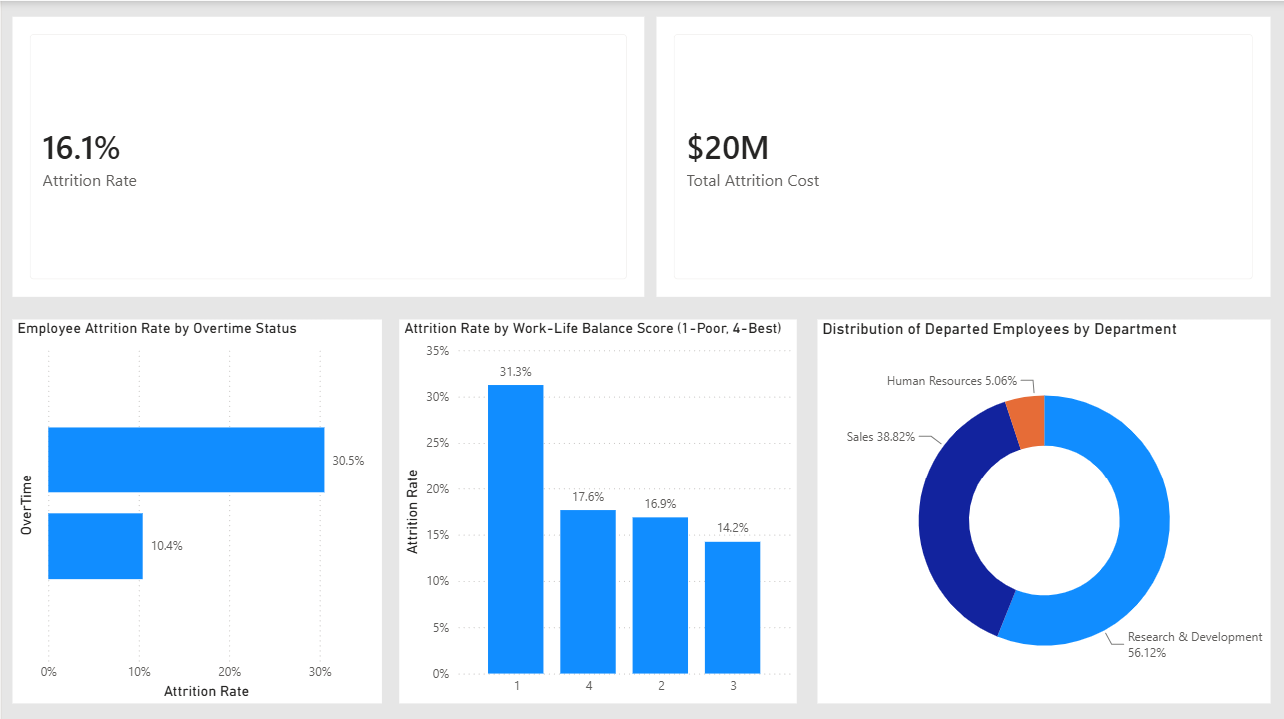

Layout of this report page (visuals, bound fields, positions):
{"tool":"powerbi","page":{"name":"Page 1","canvas":[1280,720],"ordinal":0},"visuals":[{"type":"cardVisual","fields":{"Data":["ibm_hr_cleaned_data.Attrition Rate"]},"box":[10.5,15.7,630.3,279.3],"z":0},{"type":"cardVisual","fields":{"Data":["ibm_hr_cleaned_data.Total Attrition Cost"]},"box":[653,15.7,612.8,279.3],"z":1000},{"type":"barChart","title":"Employee Attrition Rate by Overtime Status","fields":{"Category":["ibm_hr_cleaned_data.OverTime"],"Y":["ibm_hr_cleaned_data.Attrition Rate"]},"box":[10.5,317.8,368.4,384.1],"z":2000},{"type":"clusteredColumnChart","title":"Attrition Rate by Work-Life Balance Score (1-Poor, 4-Best)","fields":{"Category":["ibm_hr_cleaned_data.WorkLifeBalance"],"Y":["ibm_hr_cleaned_data.Attrition Rate"]},"box":[396.3,317.8,396.3,384.1],"z":3000},{"type":"donutChart","title":"Distribution of Departed Employees by Department","fields":{"Category":["ibm_hr_cleaned_data.Department"],"Y":["Sum(ibm_hr_cleaned_data.attrition_num)"]},"box":[813.6,317.8,452.2,384.1],"z":4000}]}

Visuals, with their boxes in screenshot pixels (x1, y1, x2, y2), scaled from the page's 1280x720 canvas onto the 1284x719 screenshot:
cardVisual - ibm_hr_cleaned_data.Attrition Rate: [11, 16, 643, 295]
cardVisual - ibm_hr_cleaned_data.Total Attrition Cost: [655, 16, 1270, 295]
"Employee Attrition Rate by Overtime Status" barChart: [11, 317, 380, 701]
"Attrition Rate by Work-Life Balance Score (1-Poor, 4-Best)" clusteredColumnChart: [398, 317, 795, 701]
"Distribution of Departed Employees by Department" donutChart: [816, 317, 1270, 701]
